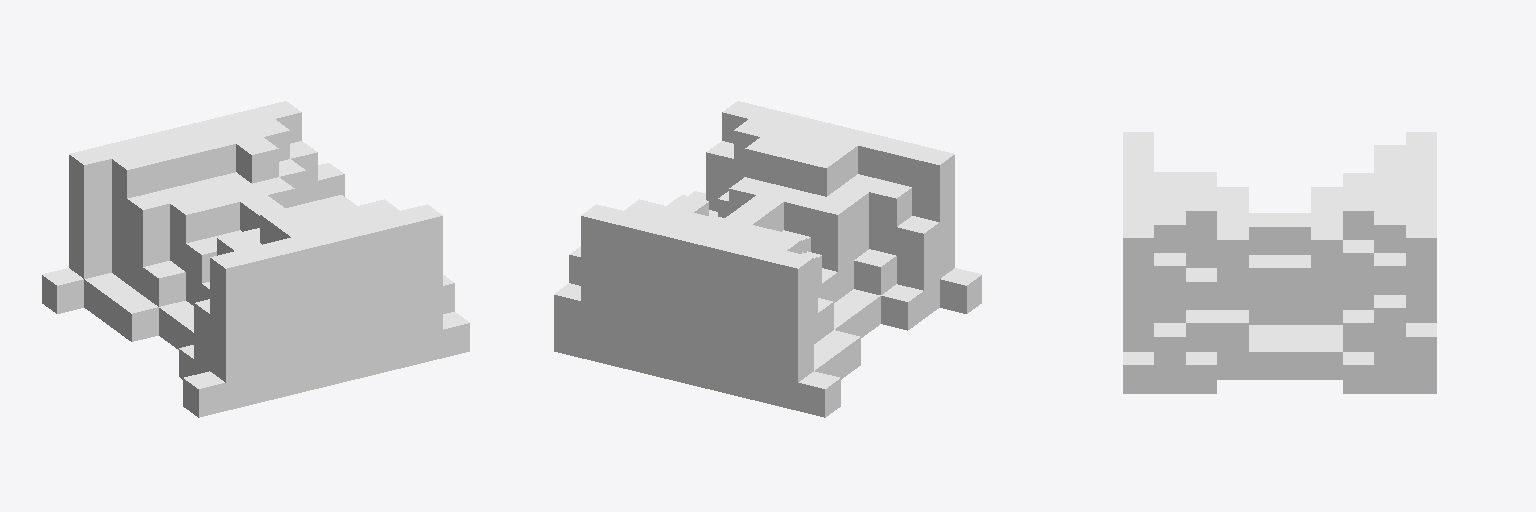
The model's file is Stein_Brücke-1.0.obj.
The picture shows the model from 3 angles: view 1: azimuth 30°, elevation 25°; view 2: azimuth 150°, elevation 25°; view 3: azimuth 270°, elevation 25°; orthographic projection.
Parts seen in each view (by area): view 1: object 1; view 2: object 1; view 3: object 1.
Part boxes in pixels (x1,y1,x2,y2): object 1: (42, 101, 469, 417); object 1: (554, 101, 981, 417); object 1: (1123, 132, 1436, 393).
Bounding box in the file's own units: 1 × 0.5 × 1.